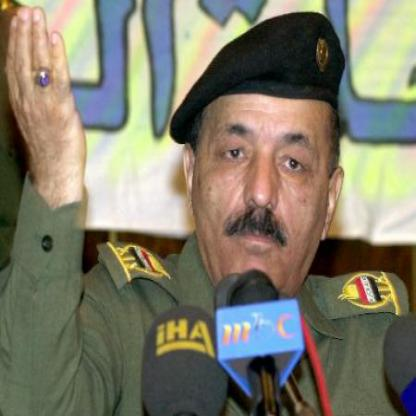face: (196, 37, 335, 310)
